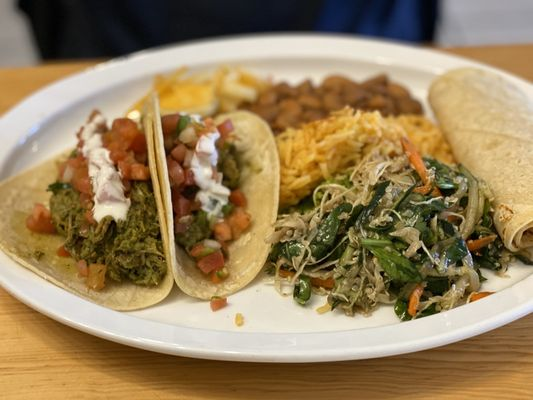soup: (148, 90, 279, 302), (428, 65, 533, 267)
